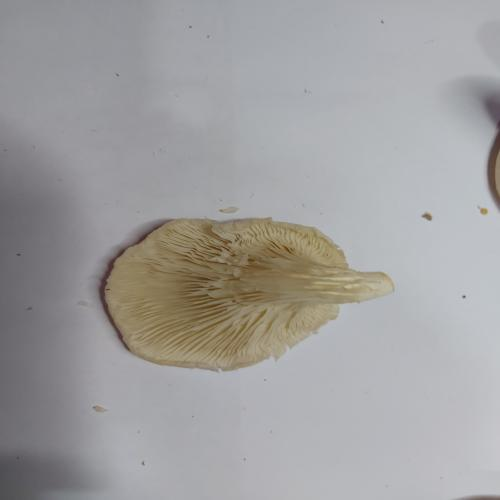Oyster Mushroom: (102, 216, 395, 373)
